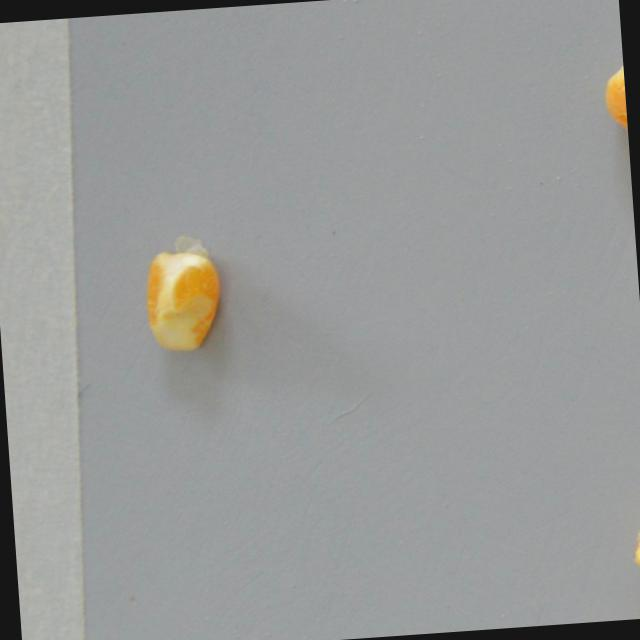dañado: (136, 230, 227, 357), (591, 56, 629, 153)
no_desgerminado: (625, 492, 640, 585)
